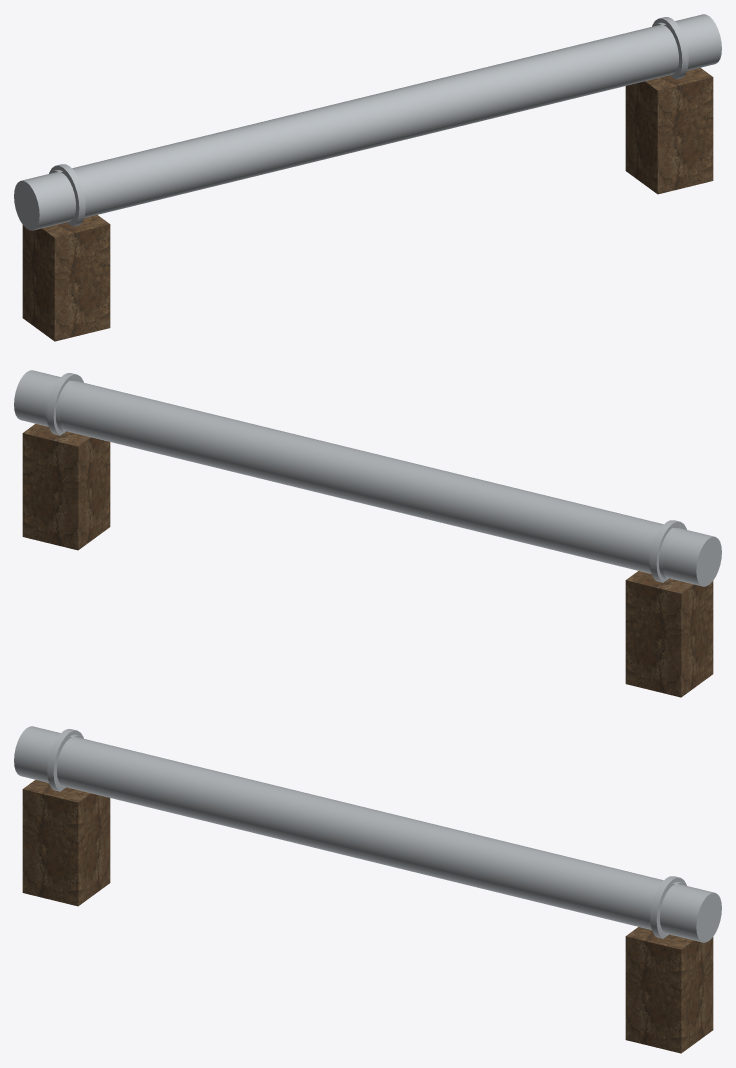
Rendered from pipe_overhead.glb.
The picture shows the model from 3 angles, top to bottom: view 1: azimuth 30°, elevation 25°; view 2: azimuth 150°, elevation 25°; view 3: azimuth 330°, elevation 25°; orthographic projection.
Visible parts, largest first — view 1: pipe, support; view 2: pipe, support; view 3: pipe, support.
Boxes of the visible parts, x1=… form: pipe: x1=14, y1=14, x2=721, y2=230; support: x1=22, y1=68, x2=713, y2=341; pipe: x1=14, y1=370, x2=721, y2=586; support: x1=22, y1=424, x2=713, y2=697; pipe: x1=14, y1=726, x2=721, y2=942; support: x1=22, y1=780, x2=713, y2=1053.
Bounding box in the file's own units: 8.6 × 1.88 × 0.7002.
Materials: 2 (1 with a texture image).
